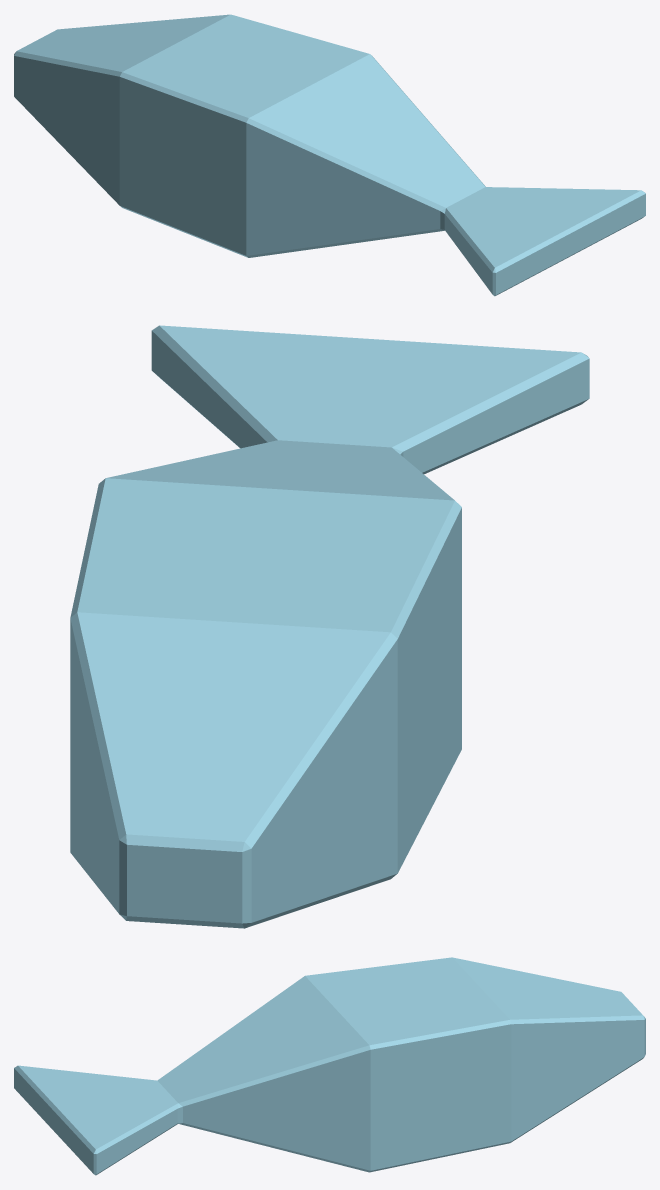
Rendered from Fish.fbx.
The picture shows the model from 3 angles, top to bottom: view 1: azimuth 30°, elevation 25°; view 2: azimuth 150°, elevation 25°; view 3: azimuth 270°, elevation 25°; orthographic projection. The views are drawn at different scales.
Visible parts, largest first — view 1: Fish; view 2: Fish; view 3: Fish.
Part boxes in pixels (x1,y1,x2,y2): Fish: (14,14,645,296); Fish: (70,325,589,928); Fish: (14,957,645,1175).
Size of the model in its own units: 56.23 by 21.93 by 98.75.
